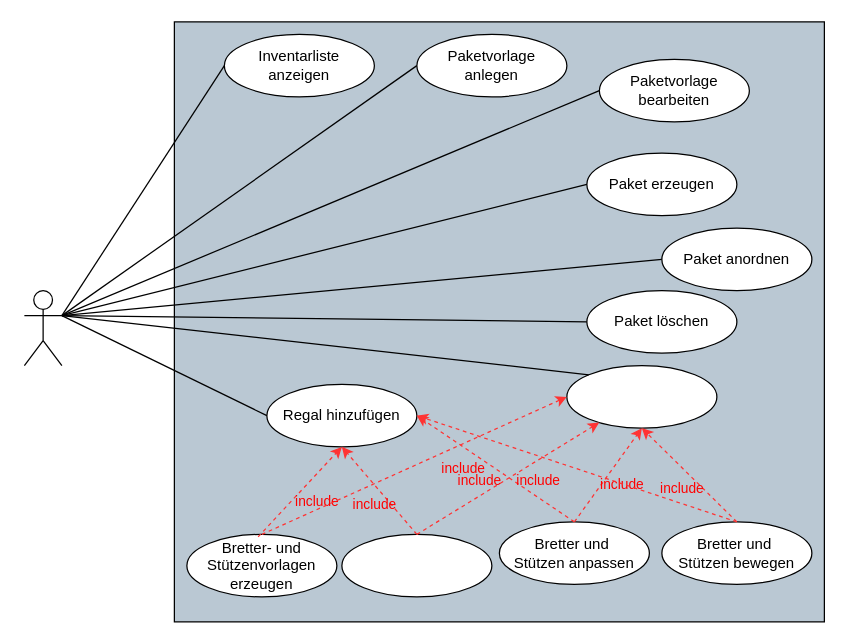
The diagram is 846 pixels wide and 644 high, and some of its shapes have lost their labels. Each missing label, with the centre of its shape:
Akteur: the point at 42,327
Bretter und Stützen erzeugen: the point at 416,565
Regal bearbeiten: the point at 641,396
